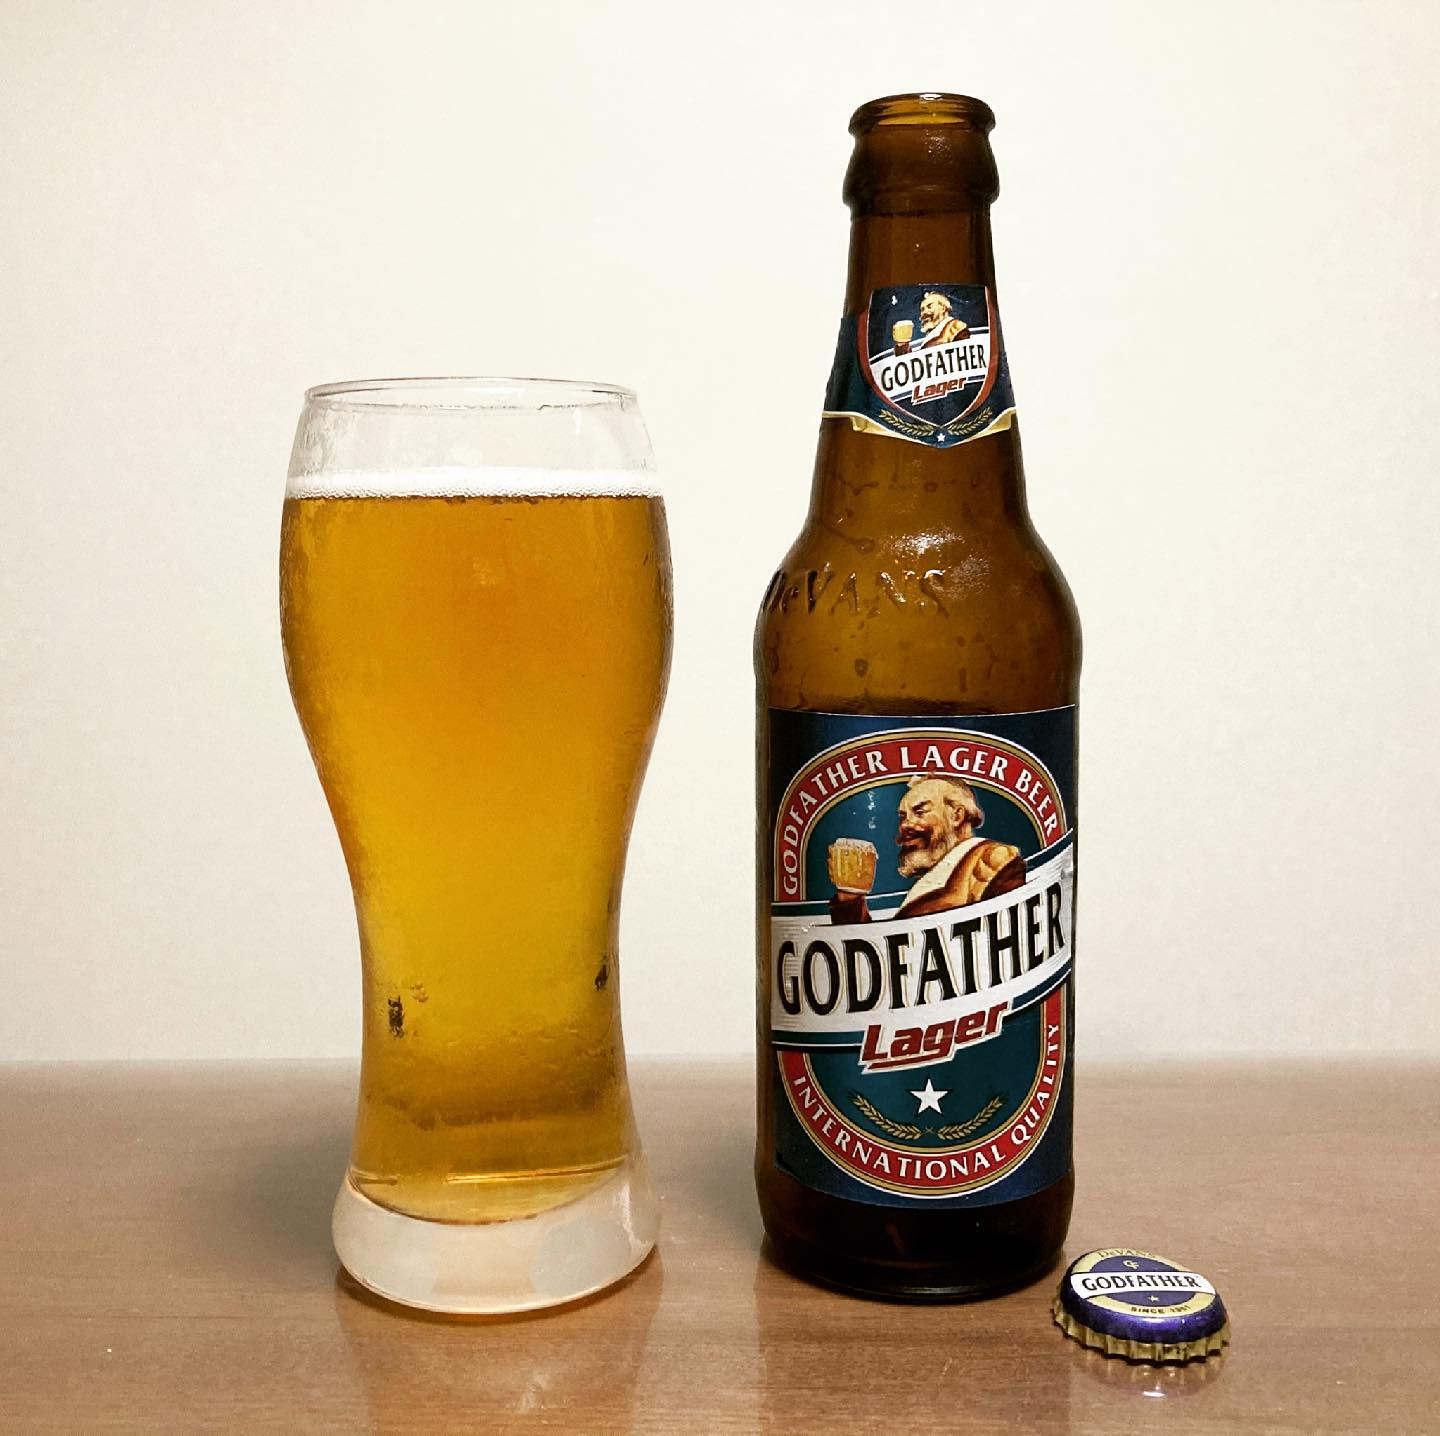alcohol: (740, 80, 1092, 1315), (267, 366, 684, 1331)
